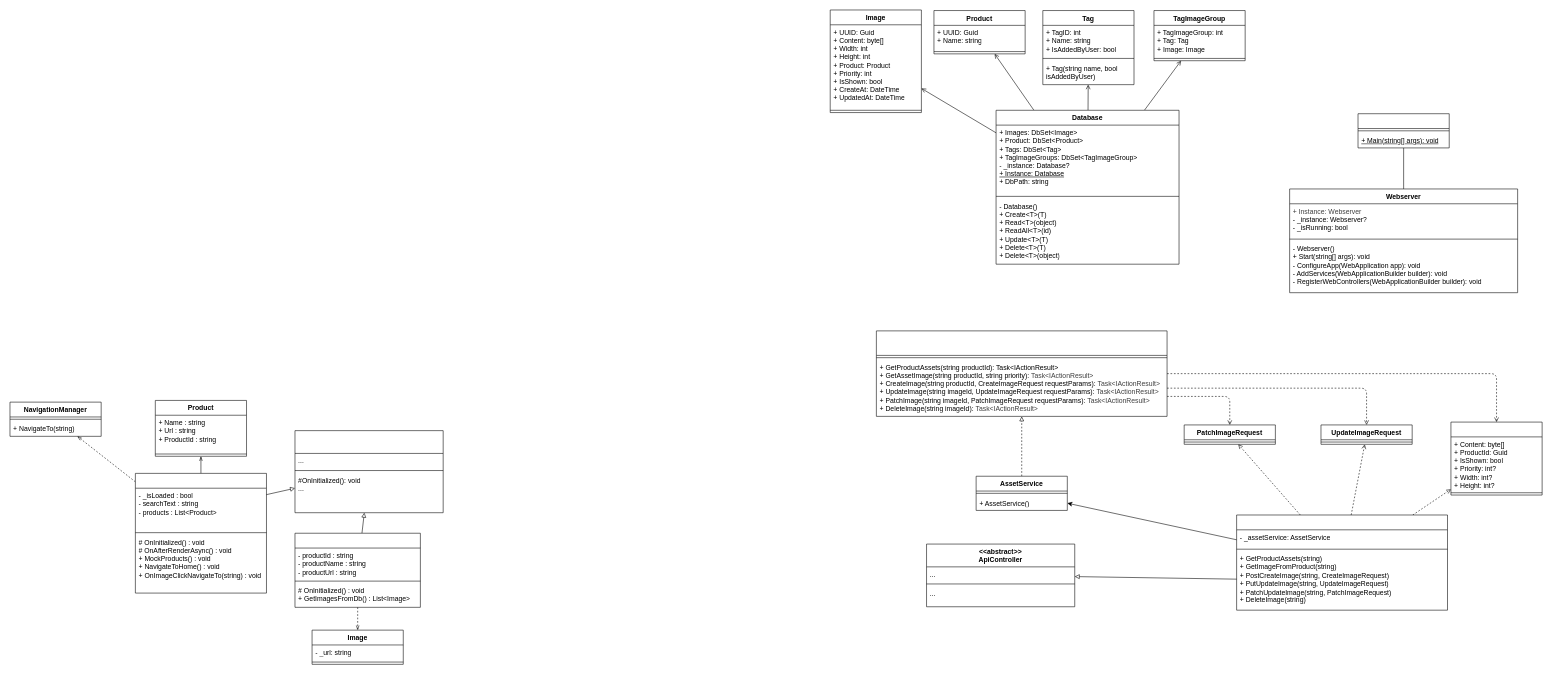
Some shapes in this 1552 by 674 pixel diagram are drawn without their labels. The shapes that lost their labels are listed below. From the top down, each one's box as (x1, y1, x2, y2) in pixels, then its label:
(1357, 113, 1449, 148): Program
(876, 330, 1167, 416): <<interface>> IAssetService
(294, 430, 443, 513): <<abstract>> ComponentBase
(1450, 422, 1542, 495): CreateImageRequest
(135, 473, 266, 593): Overview
(294, 533, 420, 607): Edit
(1236, 514, 1448, 610): AssetsController
